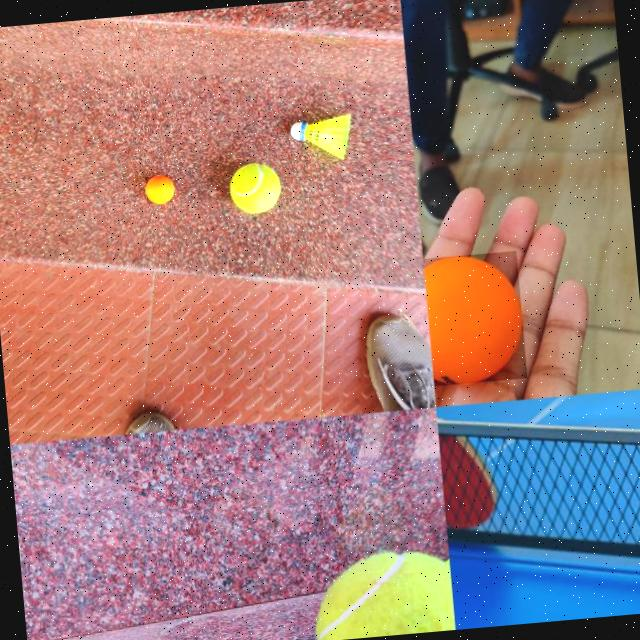ping-pong-ball: (423, 250, 528, 387), (145, 174, 173, 205)
